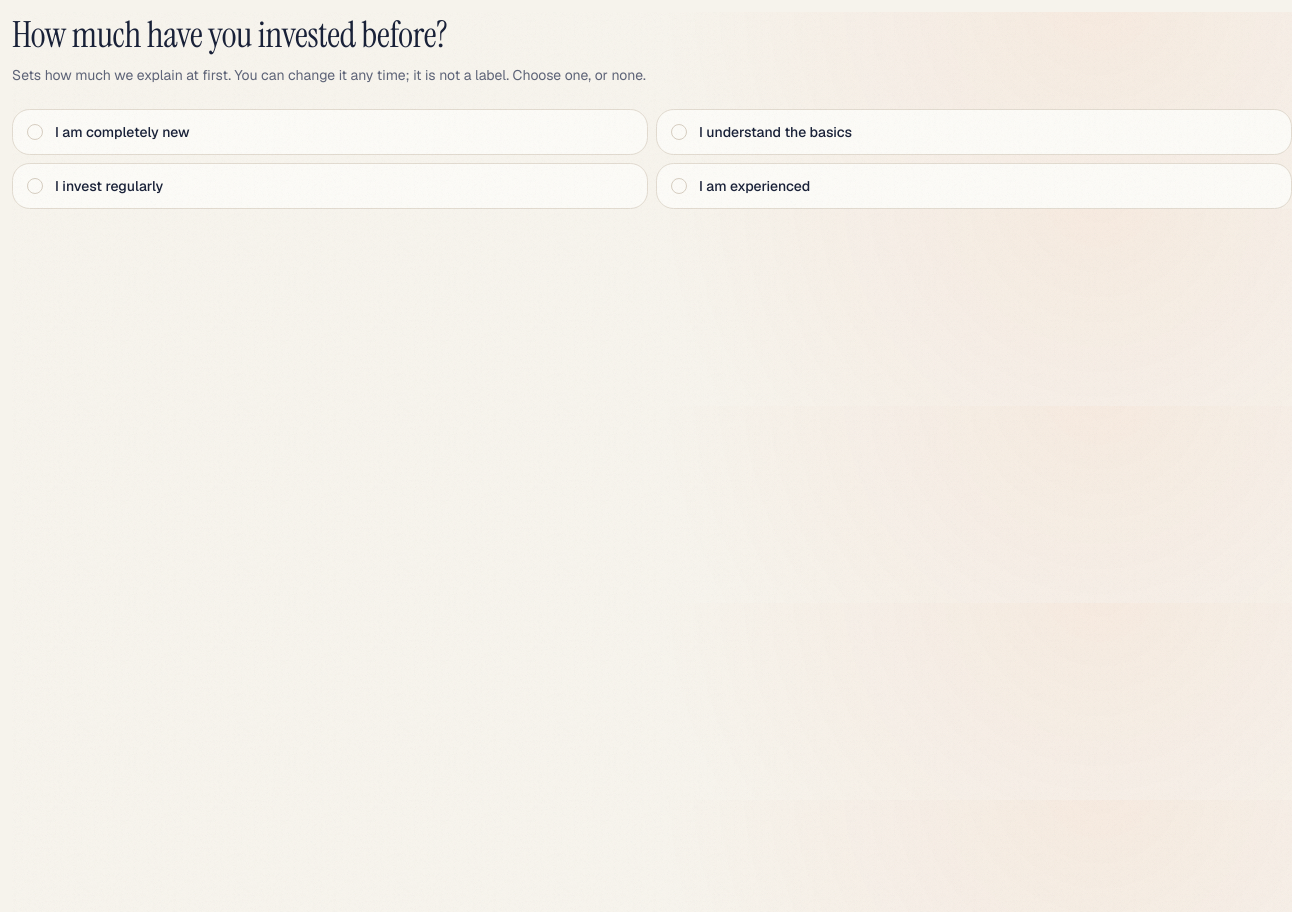
Test case: PreferenceQuestion selections › experience can be selected, replaced, toggled off, and explicitly cleared
This screenshot has width=1292, height=912.
Expected: the button "Clear this answer" is not shown
Click the radio button with test id "input-experience-new". click: click(122, 132)
box: [12,109,648,155]
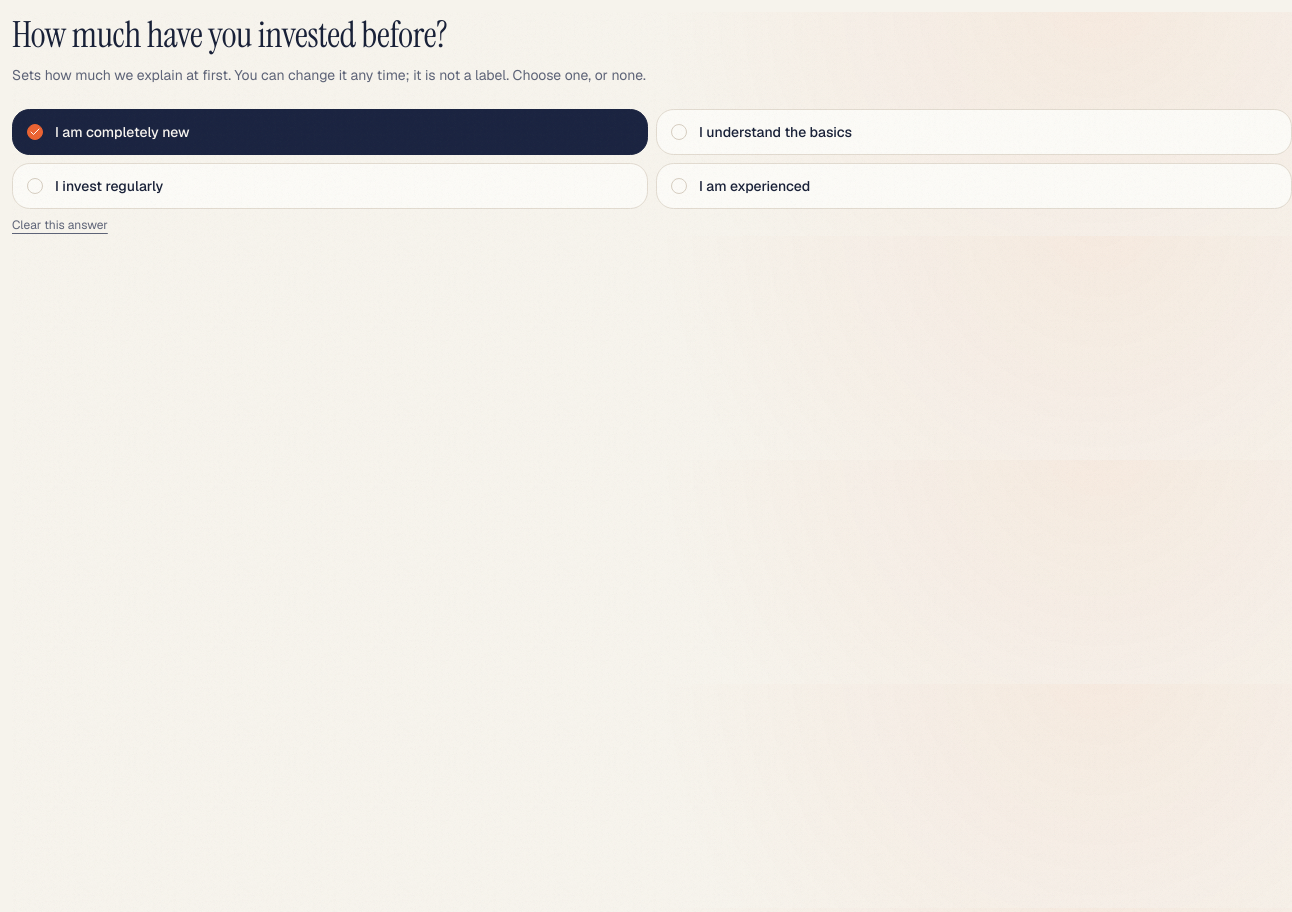
Click the radio button labelled "I understand the basics". click: click(776, 132)
box: [656,109,1291,155]
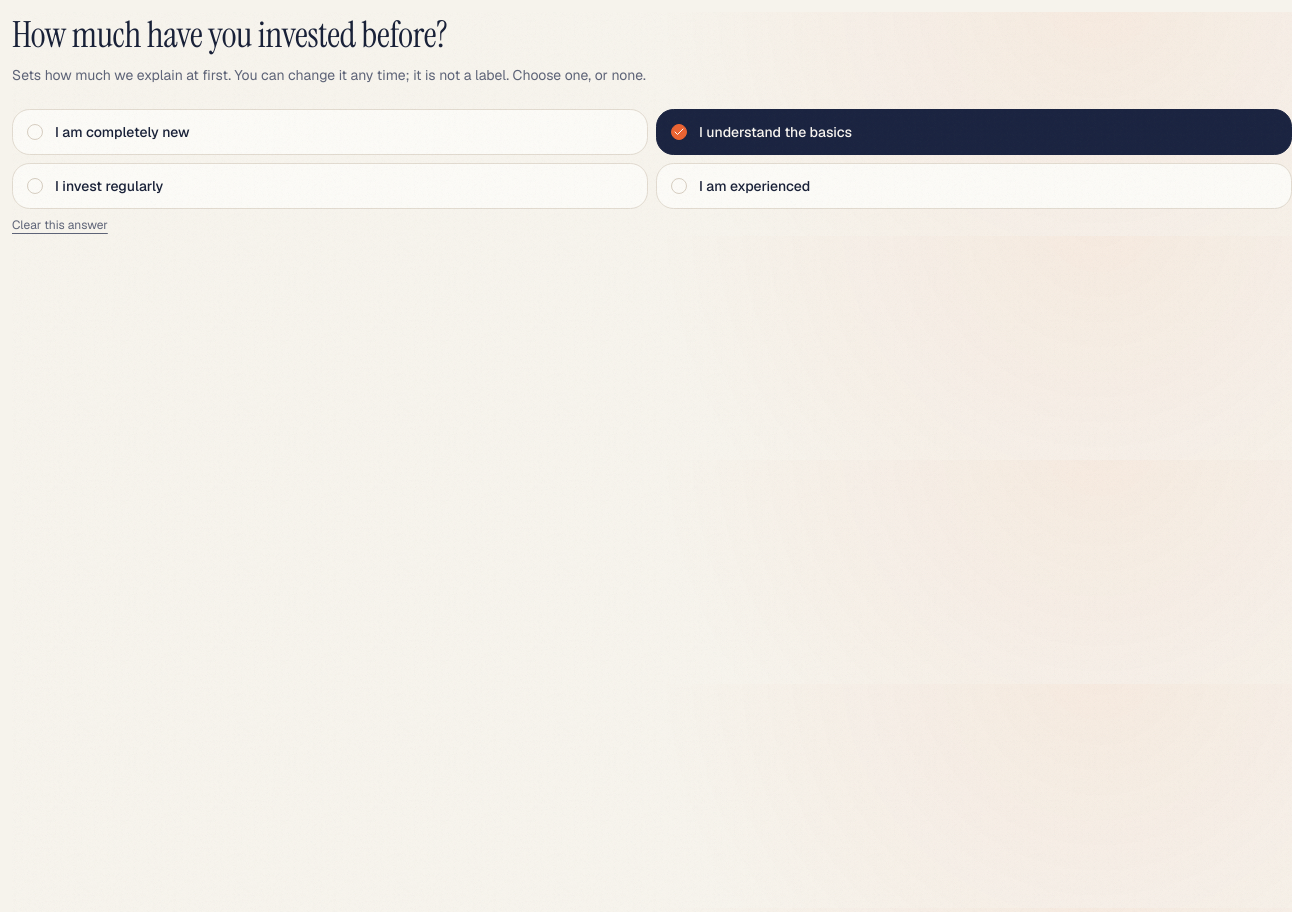
Click the radio button labelled "I understand the basics". click: click(776, 132)
box: [656,109,1291,155]
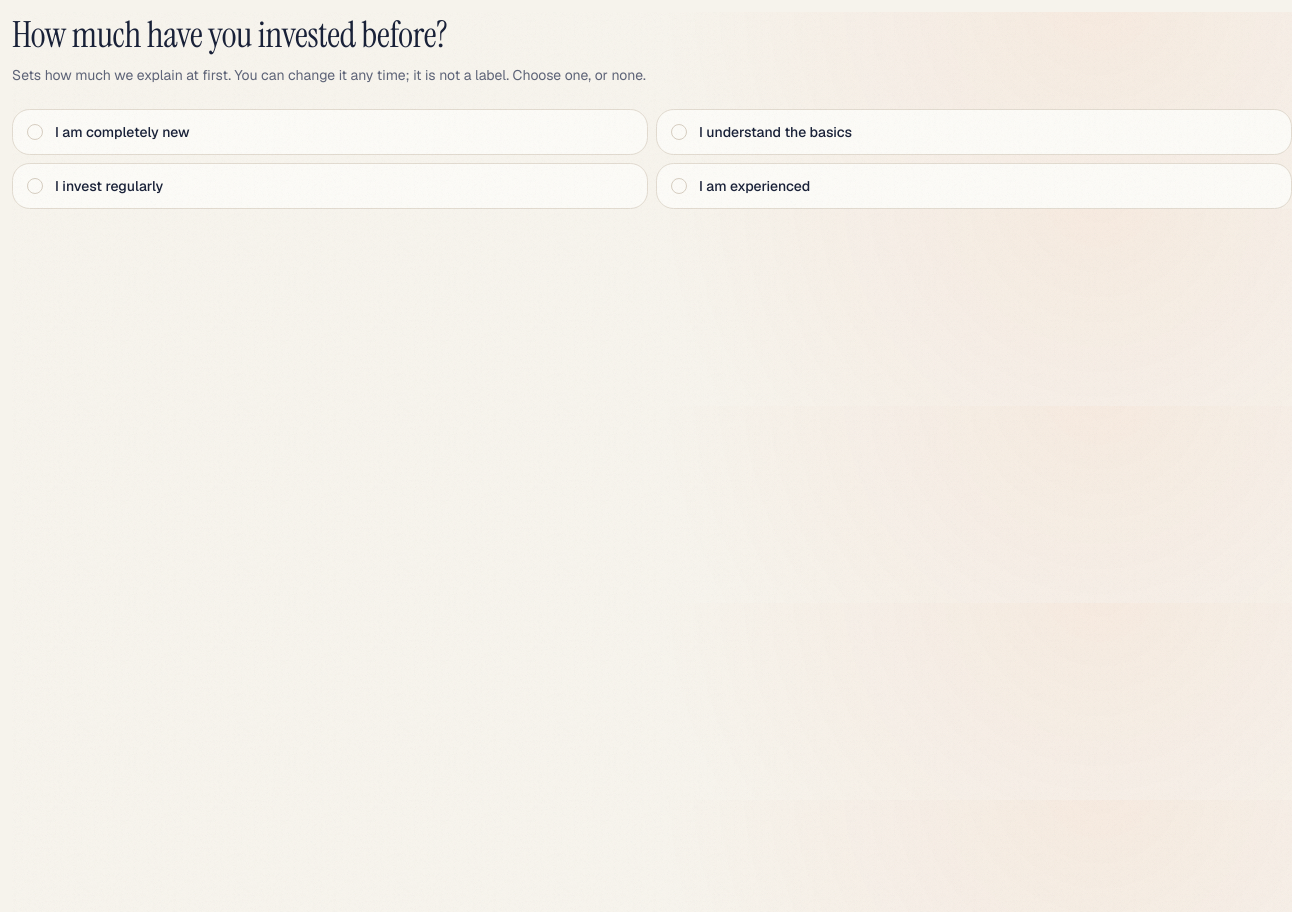
Click the radio button with test id "input-experience-new". click: click(122, 132)
box: [12,109,648,155]
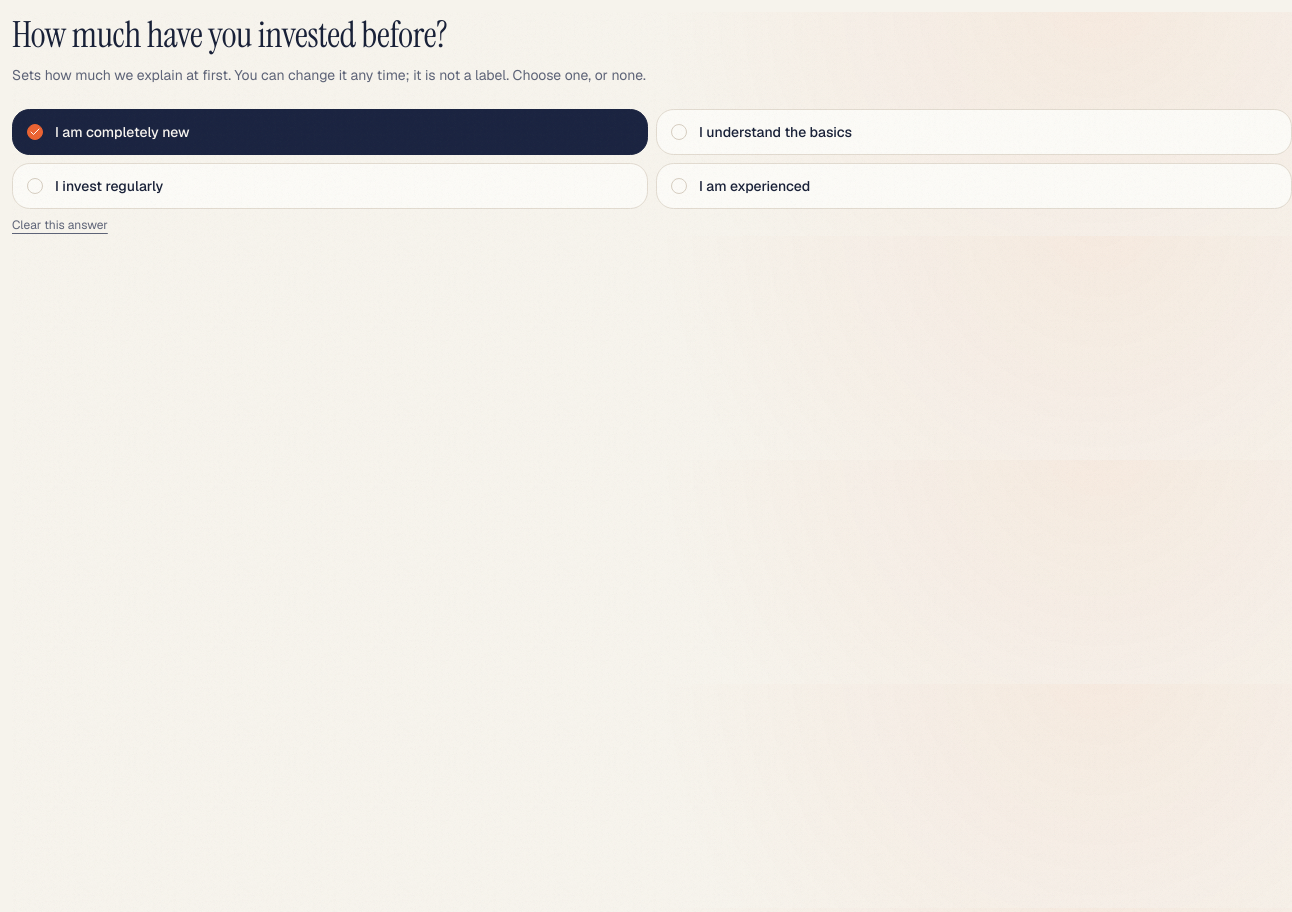
Click the button "Clear this answer". click: click(60, 225)
box: [12,217,108,233]
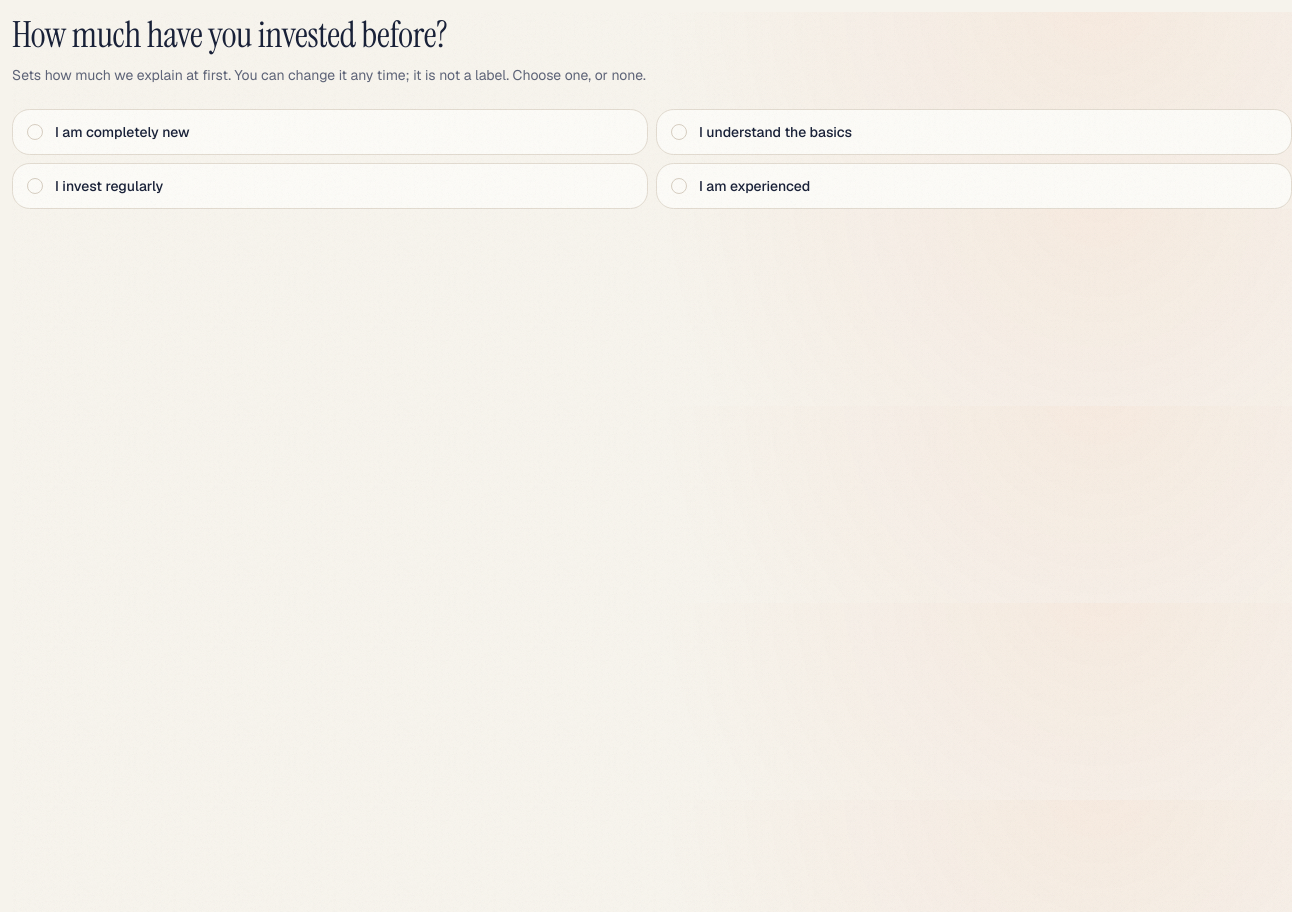
Now the button "Clear this answer" is gone
